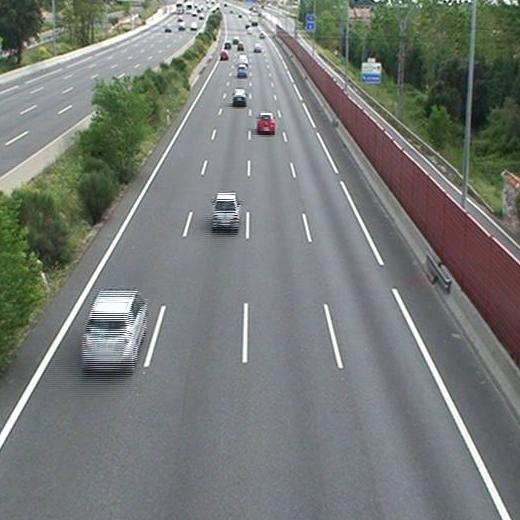car: (81, 292, 145, 365), (212, 194, 240, 227), (258, 113, 276, 132), (233, 90, 246, 103), (236, 65, 247, 77), (219, 50, 229, 61), (237, 54, 247, 63), (253, 44, 261, 53), (237, 42, 245, 49)
